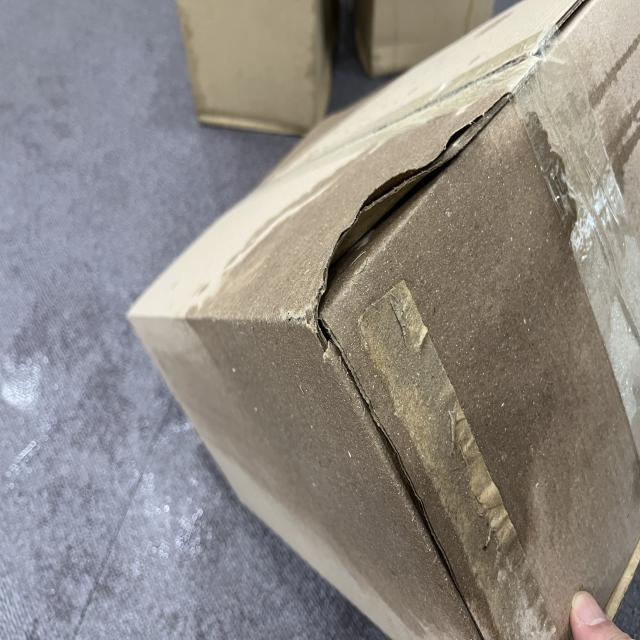wet: (196, 93, 639, 639)
